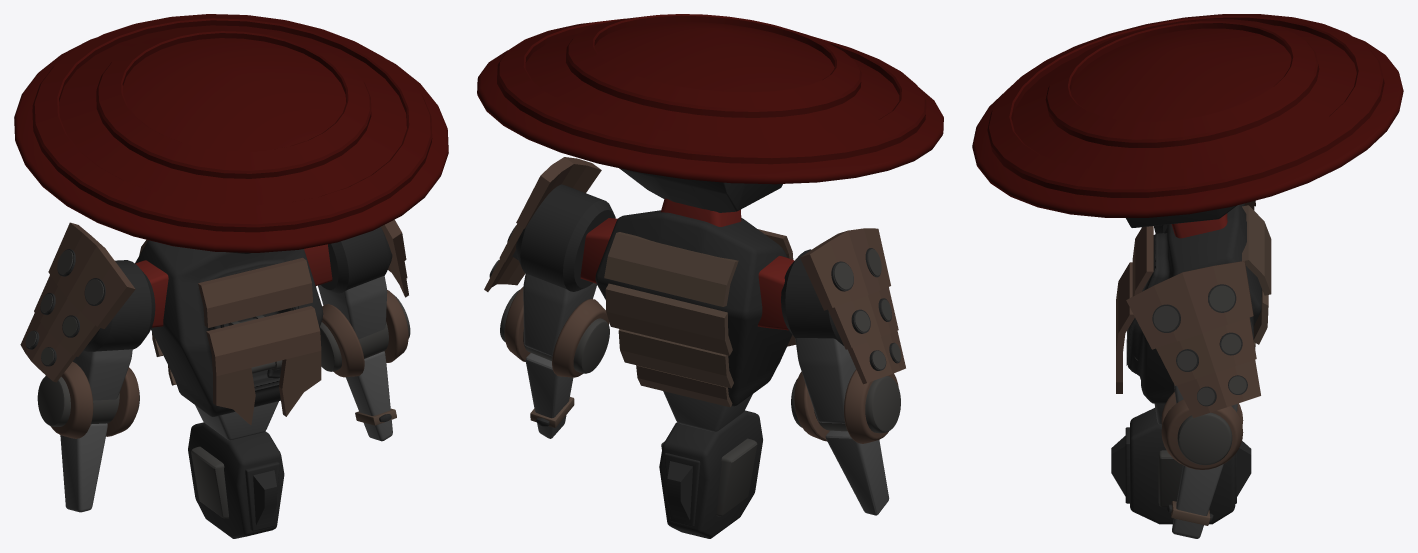
The model's file is floatyguy.fbx.
3 renders of one model, left to right at view 1: azimuth 30°, elevation 25°; view 2: azimuth 150°, elevation 25°; view 3: azimuth 270°, elevation 25°, orthographic. The views are drawn at different scales.
Parts seen in each view (by area): view 1: Sphere.001, Cube.118, Cube.126, Cube.125, Cube.169, Cube.329, Cylinder.307, Cylinder.303, Cube.391, Cube.366, Cube.367, Cube.390 (+13 smaller); view 2: Sphere.001, Cube.118, Cylinder.303, Cube.147, Cube.169, Cube.148, Cube.329, Cube.149, Cube.390, Cube.366, Cube.159, Cube.391 (+18 smaller); view 3: Sphere.001, Cube.118, Cube.119, Cube.169, Cube.120, Cylinder.306, Cube.121, Cube.367, Cylinder.304, Cube.147, Cube.126, Cube.125 (+7 smaller).
Part boxes in pixels (bbox=[...]): Sphere.001: bbox=[14, 14, 448, 252]; Cube.118: bbox=[135, 240, 323, 416]; Cube.126: bbox=[206, 306, 321, 424]; Cube.125: bbox=[198, 257, 312, 327]; Cube.169: bbox=[188, 422, 284, 538]; Cube.329: bbox=[48, 222, 135, 328]; Cylinder.307: bbox=[83, 260, 155, 351]; Cylinder.303: bbox=[320, 227, 392, 293]; Cube.391: bbox=[60, 423, 107, 512]; Cube.366: bbox=[318, 276, 387, 339]; Cube.367: bbox=[346, 351, 392, 441]; Cube.390: bbox=[73, 349, 132, 400]; Sphere.001: bbox=[477, 14, 943, 184]; Cube.118: bbox=[595, 210, 792, 406]; Cylinder.303: bbox=[516, 184, 615, 291]; Cube.147: bbox=[604, 232, 738, 306]; Cube.169: bbox=[659, 410, 762, 538]; Cube.148: bbox=[605, 283, 732, 355]; Cube.329: bbox=[800, 228, 890, 310]; Cube.149: bbox=[618, 329, 733, 388]; Cube.390: bbox=[795, 338, 855, 423]; Cube.366: bbox=[523, 273, 596, 356]; Cube.159: bbox=[619, 168, 782, 212]; Cube.391: bbox=[825, 430, 889, 515]; Sphere.001: bbox=[972, 14, 1403, 217]; Cube.118: bbox=[1126, 204, 1261, 403]; Cube.119: bbox=[1126, 261, 1253, 349]; Cube.169: bbox=[1130, 408, 1235, 524]; Cube.120: bbox=[1156, 317, 1256, 385]; Cylinder.306: bbox=[1177, 412, 1232, 465]; Cube.121: bbox=[1177, 359, 1260, 417]; Cube.367: bbox=[1172, 464, 1223, 538]; Cylinder.304: bbox=[1161, 399, 1243, 469]; Cube.147: bbox=[1242, 205, 1271, 295]; Cube.126: bbox=[1116, 262, 1134, 393]; Cube.125: bbox=[1132, 226, 1153, 296].
Size of the model in its own units: 163 by 188 by 157.
